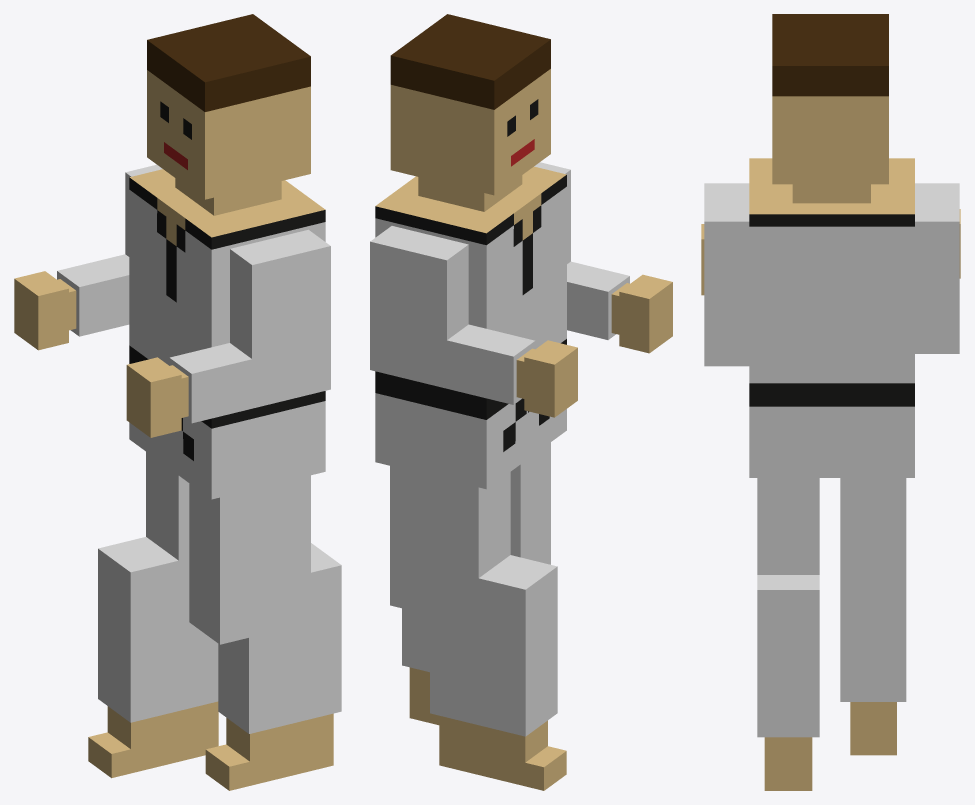
Rendered from 태권도.fbx.
3 views of the same model, side by side, from view 1: azimuth 30°, elevation 25°; view 2: azimuth 150°, elevation 25°; view 3: azimuth 270°, elevation 25° (orthographic). The views are drawn at different scales.
Parts seen in each view (by area): view 1: Box006; view 2: Box006; view 3: Box006.
Part boxes in pixels (<box>): Box006: <box>14,14,341,790</box>; Box006: <box>370,14,672,790</box>; Box006: <box>701,14,960,790</box>.
Size of the model in its own units: 15.89 by 47.66 by 15.65.
Materials: 1 (1 with a texture image).
